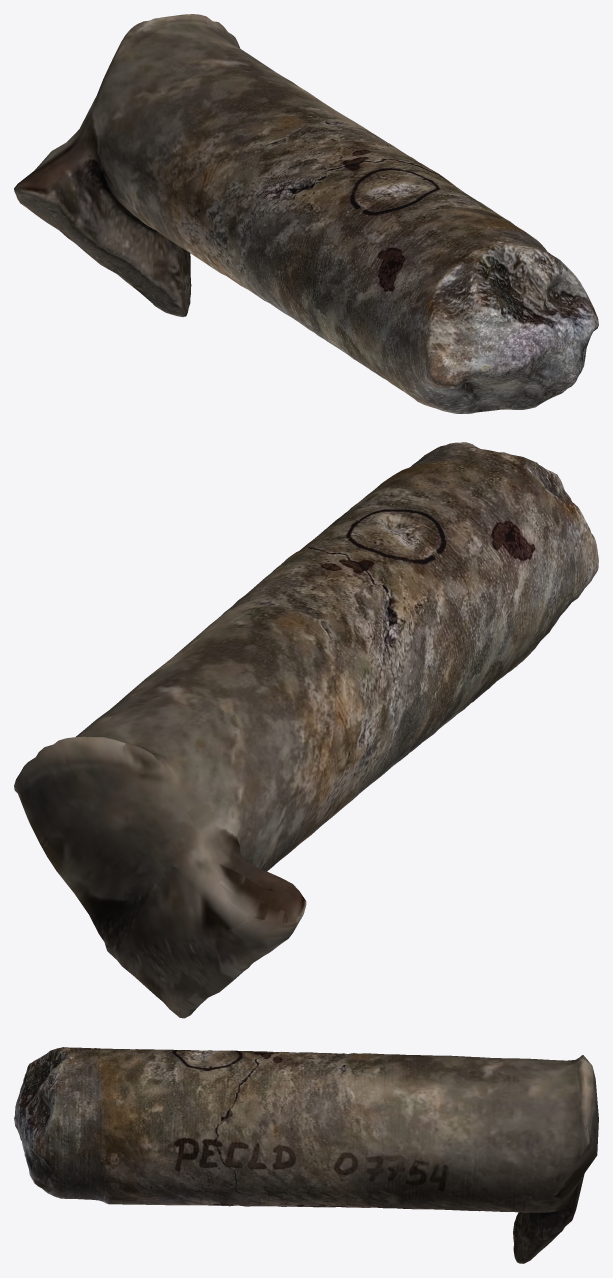
Rendered from PECLD07754 T1.GLB.
3 views of the same model, one above another, from view 1: azimuth 30°, elevation 25°; view 2: azimuth 150°, elevation 25°; view 3: azimuth 270°, elevation 25° (orthographic). The views are drawn at different scales.
Parts seen in each view (by area): view 1: baked_mesh; view 2: baked_mesh; view 3: baked_mesh.
Part boxes in pixels (left/top/right/bottom): baked_mesh: left=14, top=14, right=598, bottom=413; baked_mesh: left=14, top=442, right=598, bottom=1018; baked_mesh: left=14, top=1047, right=598, bottom=1263.
Bounding box in the file's own units: 0.2595 × 0.2787 × 0.6801.
1 material, 1 textured.
